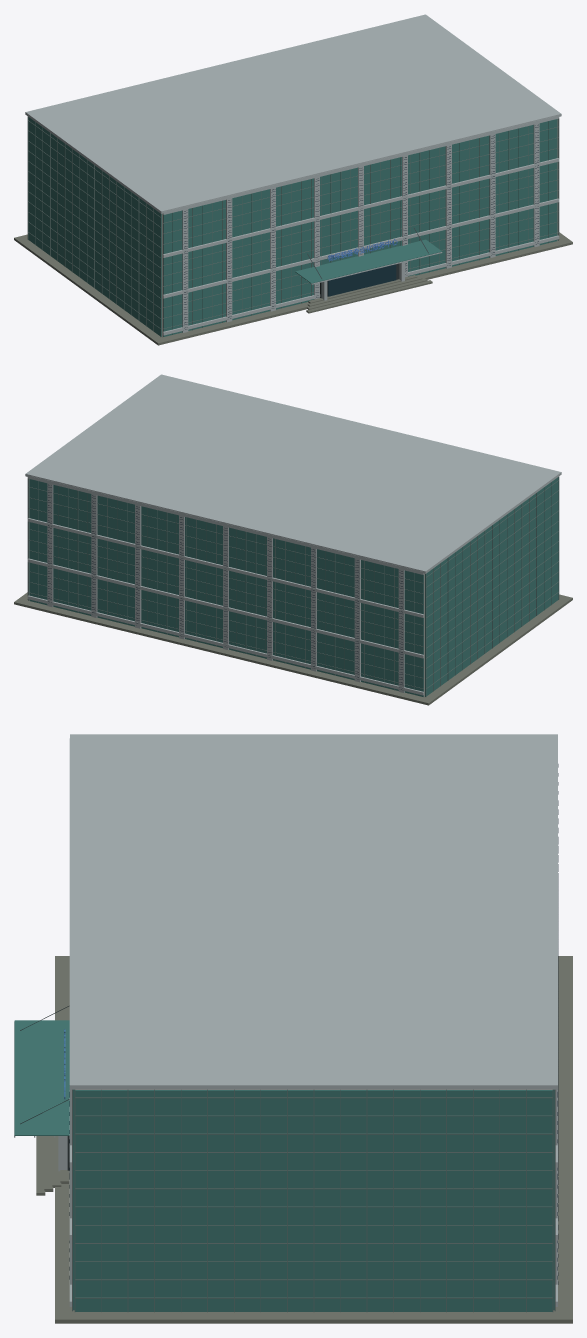
File: equipment.glb
3 renders of one model, top to bottom at view 1: azimuth 30°, elevation 25°; view 2: azimuth 150°, elevation 25°; view 3: azimuth 270°, elevation 25°, orthographic. The views are drawn at different scales.
Parts seen in each view (by area): view 1: equipment; view 2: equipment; view 3: equipment.
Part boxes in pixels (x1,y1,x2,y2): equipment: (14,14,572,345); equipment: (14,374,572,705); equipment: (14,734,572,1323).
Bounding box in the file's own units: 85.66 × 25.53 × 55.64.
